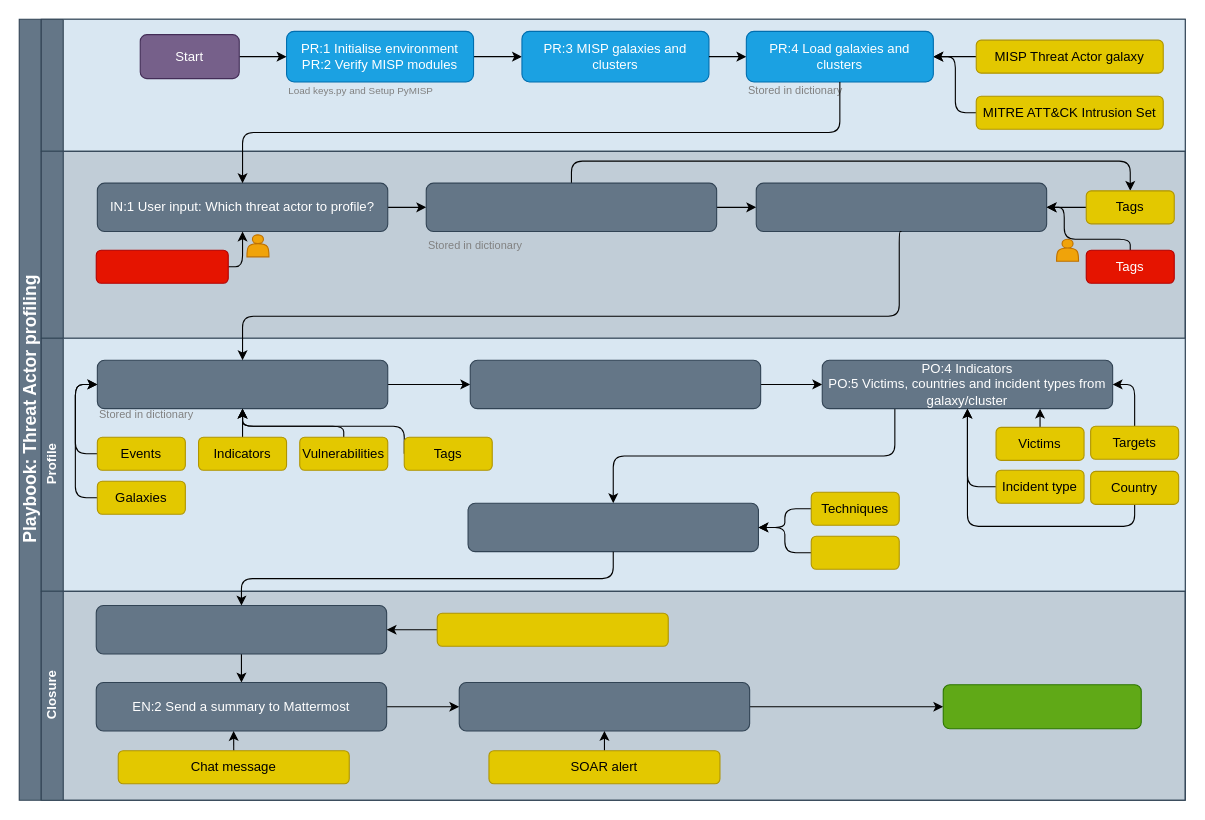
Some shapes in this 1205 by 820 pixel diagram are drawn without their labels. The box of each missing label's shape, as (x1, y1, x2, y2) in pixels:
EN:1 Create the summary of the playbook: (95, 604, 387, 654)
EN:3 Send an alert to TheHive: (458, 681, 750, 731)
EN:4 End of the playbook: (942, 684, 1141, 729)
IN:2 Search threat actor in galaxy / cluster: (425, 182, 717, 232)
IN:3 MISP tags to search events IN:4 Additional tags for event filtering: (755, 182, 1047, 232)
Investigate: (40, 150, 1185, 338)
PO:1 Search MISP events: (96, 359, 388, 409)
PO:2 Context in other MISP events PO:3 Vulnerabilities exploited: (469, 359, 761, 409)
PO:6 Information from MITRE: (467, 502, 758, 552)
Preparation: (40, 18, 1185, 151)
Result in Markdown in playbook: (436, 612, 668, 646)
Software: (810, 535, 899, 569)
Threat actor name: (95, 249, 228, 283)
